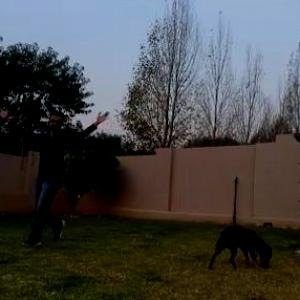takeoff: (4, 109, 125, 248)
